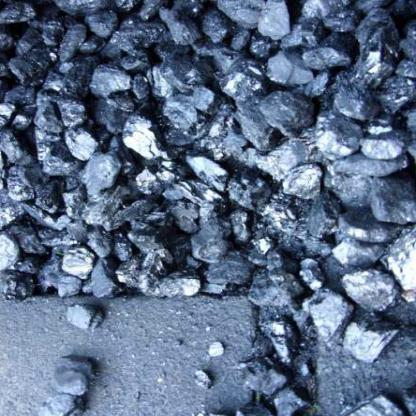Sedimentary_coal: (78, 152, 141, 204), (36, 345, 82, 415), (338, 257, 397, 310), (117, 111, 173, 160), (86, 54, 137, 104), (274, 156, 322, 206), (60, 123, 110, 167), (312, 108, 354, 160), (254, 0, 298, 46), (354, 123, 399, 166)
